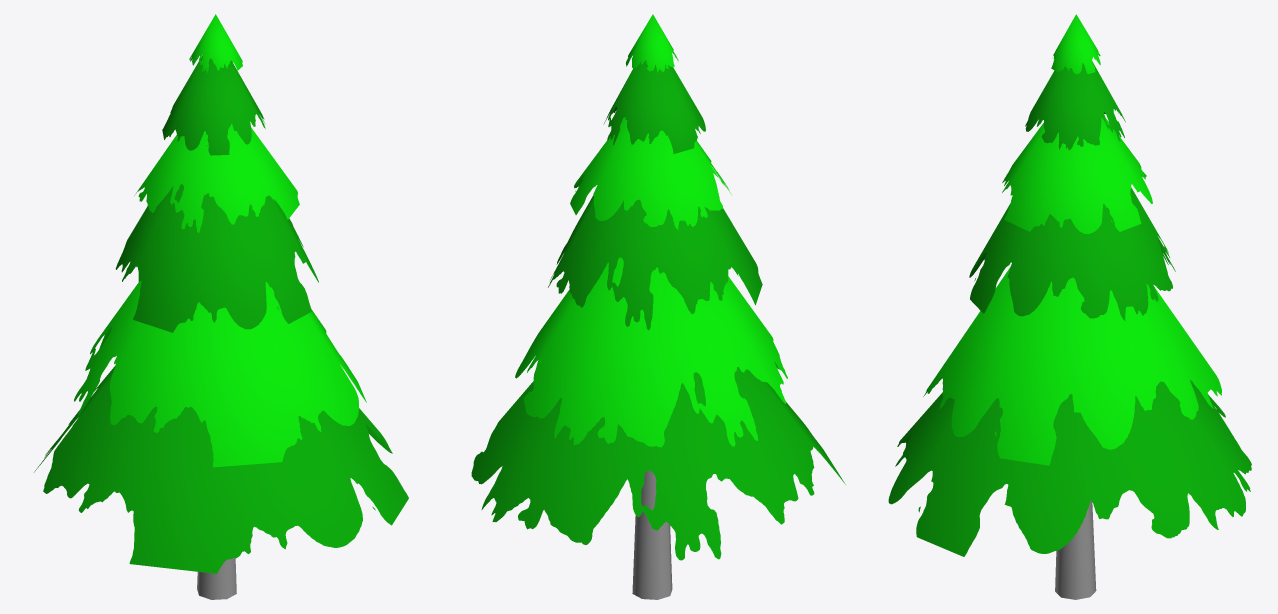
File: Tree3.fbx
3 renders of one model, left to right at view 1: azimuth 30°, elevation 25°; view 2: azimuth 150°, elevation 25°; view 3: azimuth 270°, elevation 25°, orthographic.
Visible parts, largest first — view 1: LeafClump, Tree3; view 2: LeafClump, Tree3; view 3: LeafClump, Tree3.
Boxes of the visible parts, <box> form: LeafClump: <box>34,14,408,573</box>; Tree3: <box>197,558,236,599</box>; LeafClump: <box>471,14,845,560</box>; Tree3: <box>632,470,672,599</box>; LeafClump: <box>888,14,1251,556</box>; Tree3: <box>1055,500,1096,599</box>.
Bounding box in the file's own units: 11.64 × 19.58 × 11.64.
